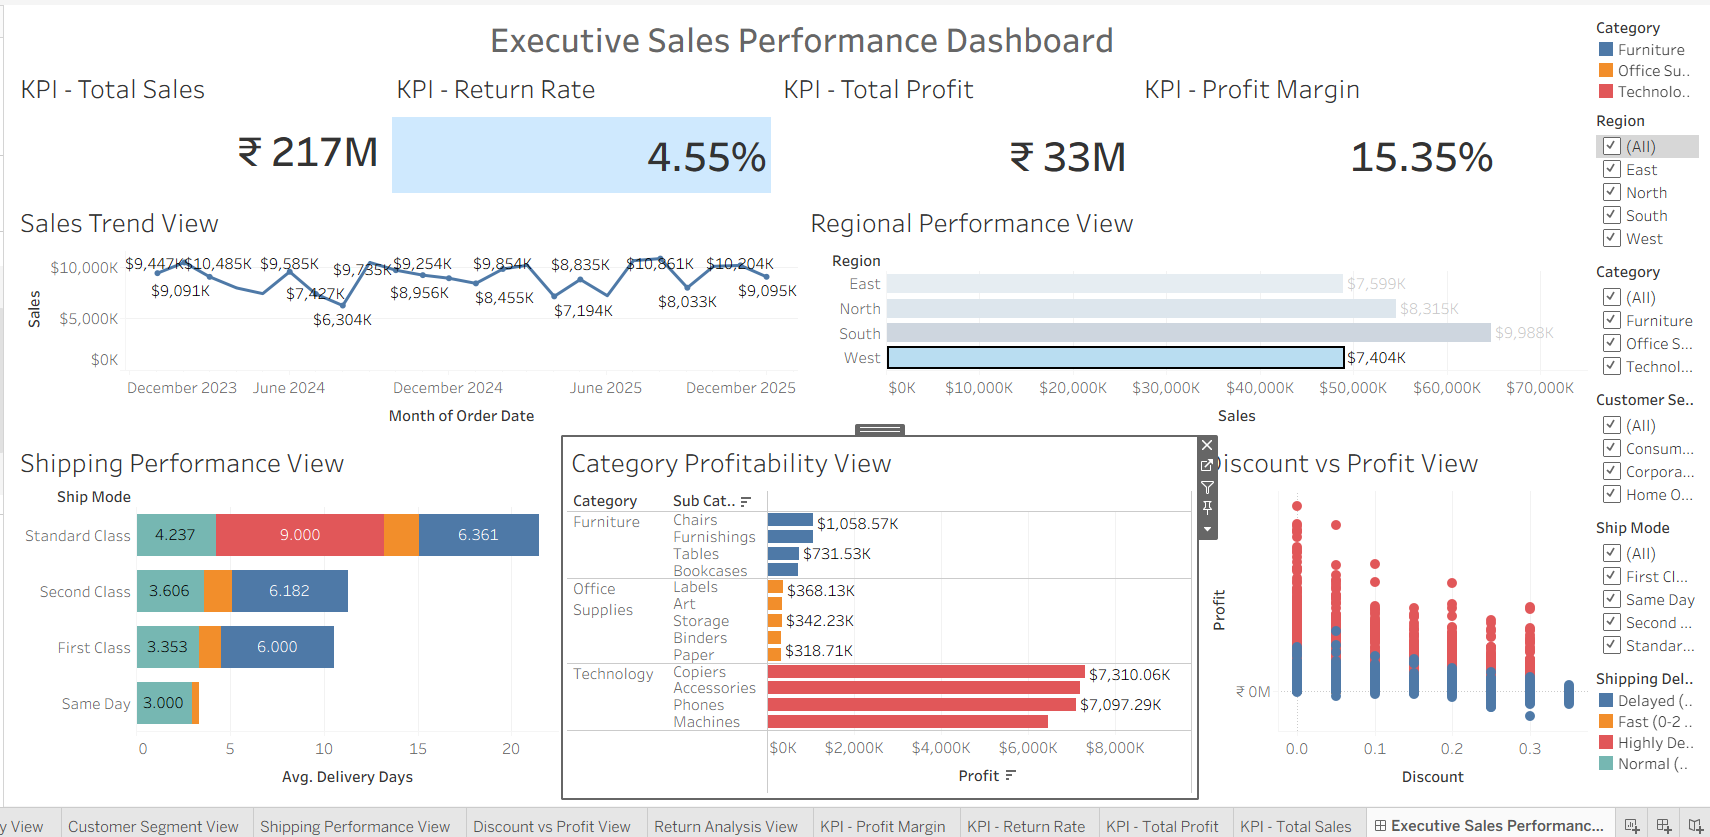

What the dashboard file says about the page in this screenshot:
{"tool":"tableau","page":{"name":"Executive Sales Performance Dashboard","canvas":[1000,1000],"units":"permille","ordinal":2},"visuals":[{"type":"text","box":[4.7,10,925.6,62.4]},{"type":"legend","title":"Discount vs Profit View","param":"[federated.1l4mags1le9rhz1164trt0fuzdap].[none:category:nk]","box":[930.3,10,65,116.1]},{"type":"worksheet","title":"KPI - Total Sales","mark":"Automatic","box":[4.7,72.4,220,154.8]},{"type":"worksheet","title":"KPI - Return Rate","mark":"Automatic","box":[224.7,72.4,226.9,167.8]},{"type":"worksheet","title":"KPI - Total Profit","mark":"Automatic","box":[451.6,72.4,211.5,167.8]},{"type":"worksheet","title":"KPI - Profit Margin","mark":"Automatic","box":[663.1,72.4,214.4,167.8]},{"type":"filter","title":"Regional Performance View","param":"[federated.1l4mags1le9rhz1164trt0fuzdap].[none:region:nk]","box":[930.3,126.1,65,188.5]},{"type":"worksheet","title":"Sales Trend View","mark":"Automatic","rows":["sales"],"cols":["order_date"],"box":[4.7,240.2,462.7,299.1]},{"type":"worksheet","title":"Regional Performance View","mark":"Automatic","rows":["region"],"cols":["sales"],"box":[467.4,240.2,462.9,299.1]},{"type":"filter","title":"Discount vs Profit View","param":"[federated.1l4mags1le9rhz1164trt0fuzdap].[none:category:nk]","box":[930.3,314.6,65,159.8]},{"type":"filter","title":"Discount vs Profit View","param":"[federated.1l4mags1le9rhz1164trt0fuzdap].[none:customer_segment:nk]","box":[930.3,474.4,65,159.8]},{"type":"worksheet","title":"Shipping Performance View","mark":"Automatic","rows":["ship_mode"],"cols":["delivery_days"],"box":[4.7,539.3,323,450.7]},{"type":"worksheet","title":"Category Profitability View","mark":"Automatic","rows":["category","sub_category"],"cols":["profit"],"box":[327.7,539.3,371.1,450.7]},{"type":"worksheet","title":"Discount vs Profit View","mark":"Circle","rows":["profit"],"cols":["discount"],"box":[698.8,539.3,231.5,450.7]},{"type":"filter","title":"Discount vs Profit View","param":"[federated.1l4mags1le9rhz1164trt0fuzdap].[none:ship_mode:nk]","box":[930.3,634.2,65,188.5]},{"type":"legend","title":"Shipping Performance View","param":"[federated.1l4mags1le9rhz1164trt0fuzdap].[none:Calculation_1681718690471942:nk]","box":[930.3,822.7,65,142.3]}]}

Visuals, with their boxes on the dashboard's canvas, which has no fixed pixel size, in thousandths of its width and height (x1, y1, x2, y2). These are canvas units, not pixel positions in the 1710x837 screenshot, which may show the page scaled, cropped or inside an application window:
text: 5, 10, 930, 72
"Discount vs Profit View" legend: 930, 10, 995, 126
"KPI - Total Sales" worksheet: 5, 72, 225, 227
"KPI - Return Rate" worksheet: 225, 72, 452, 240
"KPI - Total Profit" worksheet: 452, 72, 663, 240
"KPI - Profit Margin" worksheet: 663, 72, 878, 240
"Regional Performance View" filter: 930, 126, 995, 315
"Sales Trend View" worksheet: 5, 240, 467, 539
"Regional Performance View" worksheet: 467, 240, 930, 539
"Discount vs Profit View" filter: 930, 315, 995, 474
"Discount vs Profit View" filter: 930, 474, 995, 634
"Shipping Performance View" worksheet: 5, 539, 328, 990
"Category Profitability View" worksheet: 328, 539, 699, 990
"Discount vs Profit View" worksheet (Circle marks): 699, 539, 930, 990
"Discount vs Profit View" filter: 930, 634, 995, 823
"Shipping Performance View" legend: 930, 823, 995, 965
